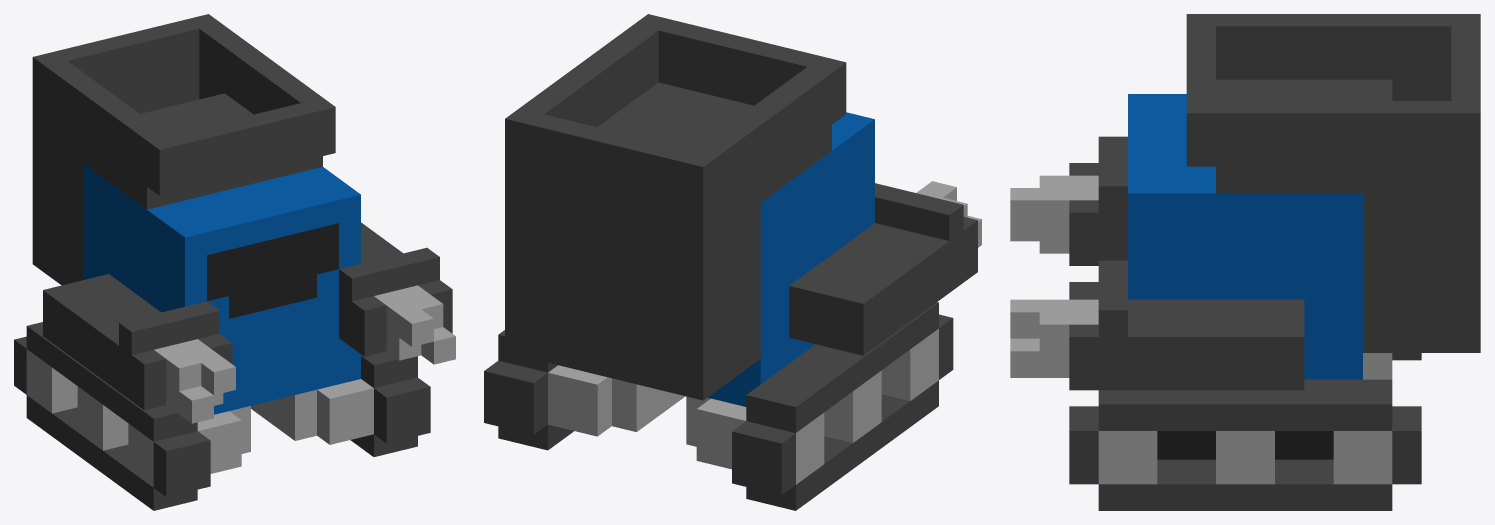
The model's file is Blue-11.obj.
3 renders of one model, left to right at view 1: azimuth 30°, elevation 25°; view 2: azimuth 150°, elevation 25°; view 3: azimuth 270°, elevation 25°, orthographic. The views are drawn at different scales.
Visible parts, largest first — view 1: Blue-11; view 2: Blue-11; view 3: Blue-11.
Part boxes in pixels (x1=…): Blue-11: x1=14, y1=14, x2=455, y2=510; Blue-11: x1=484, y1=14, x2=981, y2=510; Blue-11: x1=1010, y1=14, x2=1480, y2=510.
Bounding box in the file's own units: 14 × 14 × 16.
Materials: 1 (1 with a texture image).
